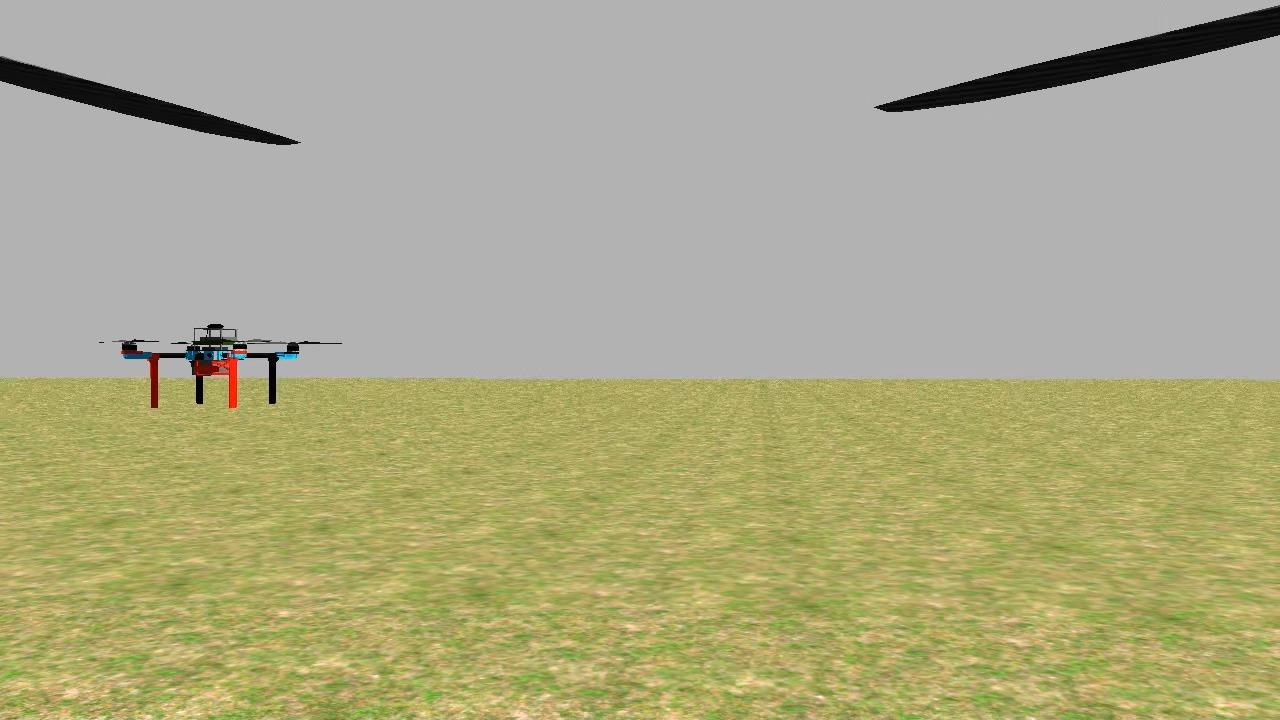UAV: (117, 305, 305, 434)
